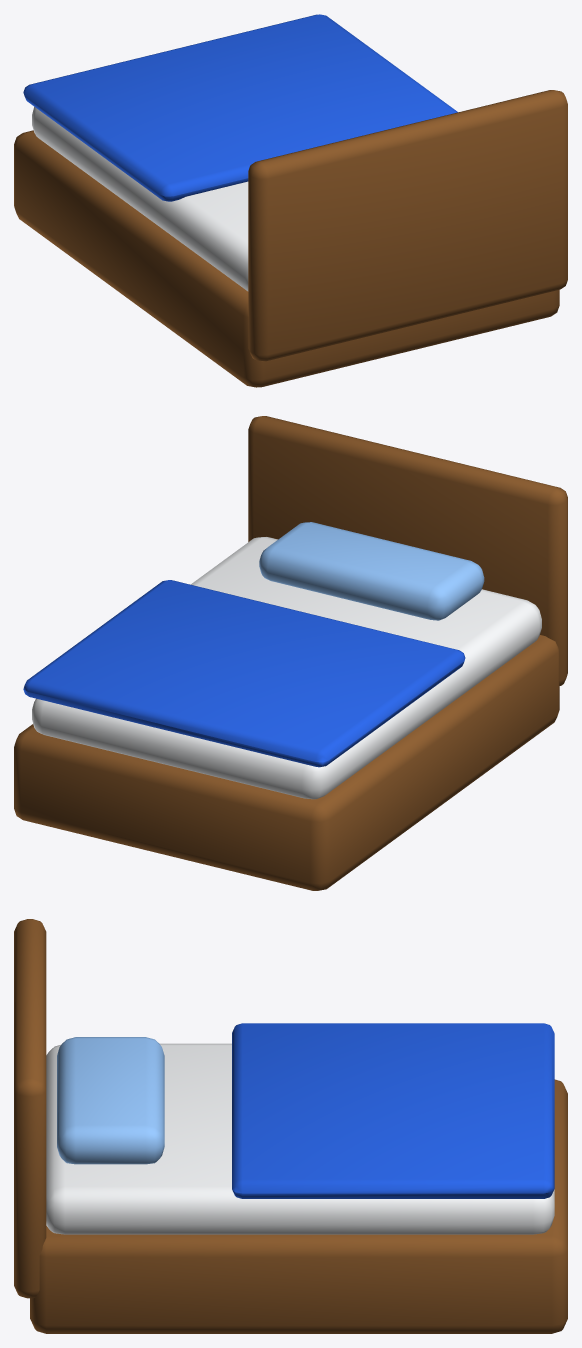
The model's file is bed.glb.
3 views of the same model, one above another, from view 1: azimuth 30°, elevation 25°; view 2: azimuth 150°, elevation 25°; view 3: azimuth 270°, elevation 25° (orthographic). The views are drawn at different scales.
Visible parts, largest first — view 1: Head, Blanket, Bed, Mattress; view 2: Bed, Blanket, Head, Mattress, Pillow; view 3: Blanket, Bed, Mattress, Pillow, Head.
Part boxes in pixels (bbox=[...]): Head: bbox=[248, 90, 567, 361]; Blanket: bbox=[23, 14, 457, 201]; Bed: bbox=[14, 130, 559, 387]; Mattress: bbox=[32, 107, 248, 291]; Bed: bbox=[14, 635, 559, 890]; Blanket: bbox=[23, 580, 465, 767]; Head: bbox=[248, 416, 567, 685]; Mattress: bbox=[32, 537, 541, 799]; Pillow: bbox=[259, 522, 484, 620]; Blanket: bbox=[232, 1023, 554, 1198]; Bed: bbox=[30, 1079, 567, 1333]; Mattress: bbox=[46, 1043, 554, 1234]; Pillow: bbox=[57, 1037, 164, 1164]; Head: bbox=[14, 919, 46, 1298].
Bounding box in the file's own units: 1.5 × 1.05 × 2.06.
